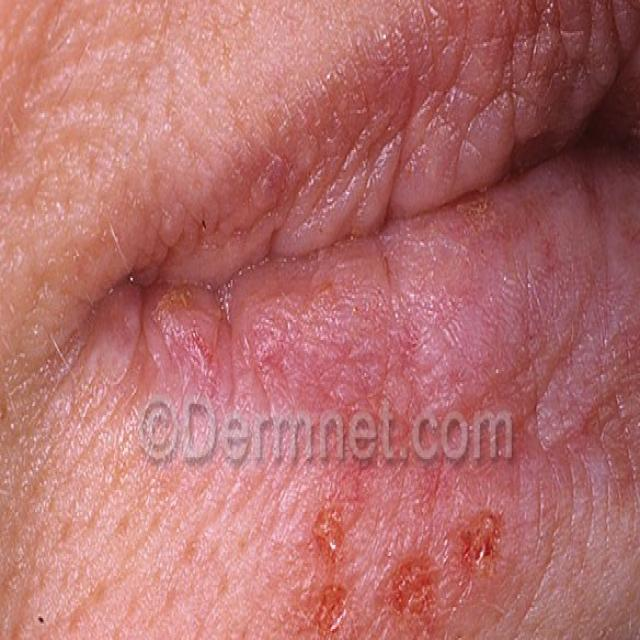Viral Infections: (287, 484, 510, 640)
